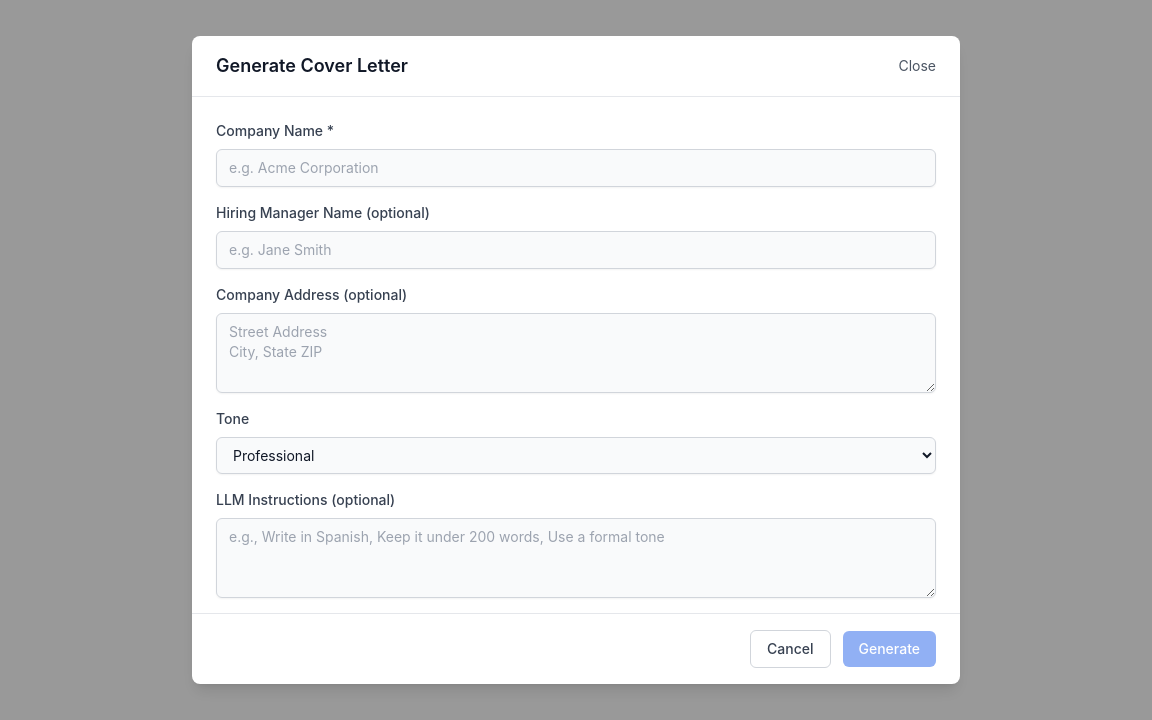
it: CoverLetterModal › enables generate button when form is valid
Type "Tech Corp" into the field labelled "Company Name *".
click(576, 168); type("Tech Corp")  # box [216,149,936,187]
(page scrolled)
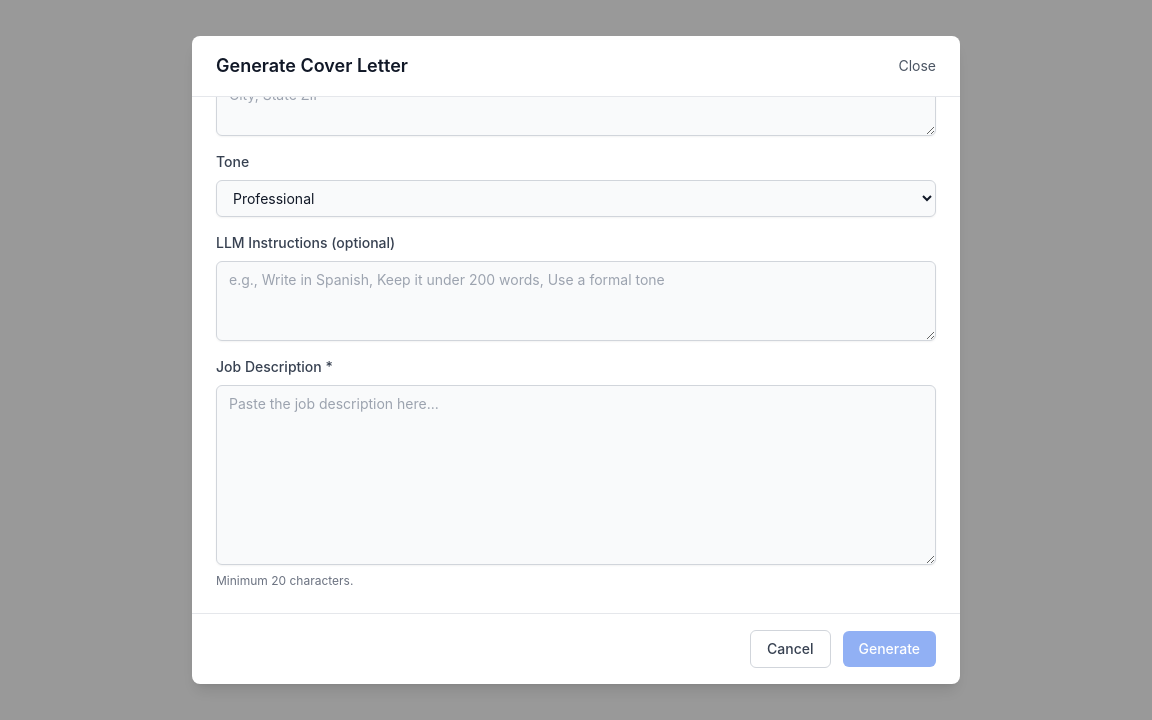
Type "We are looking for a Senior Developer with Python experience." into the text box labelled "Job Description *".
click(576, 475); type("We are looking for a Senior Developer with Python experience.")  # box [216,385,936,565]
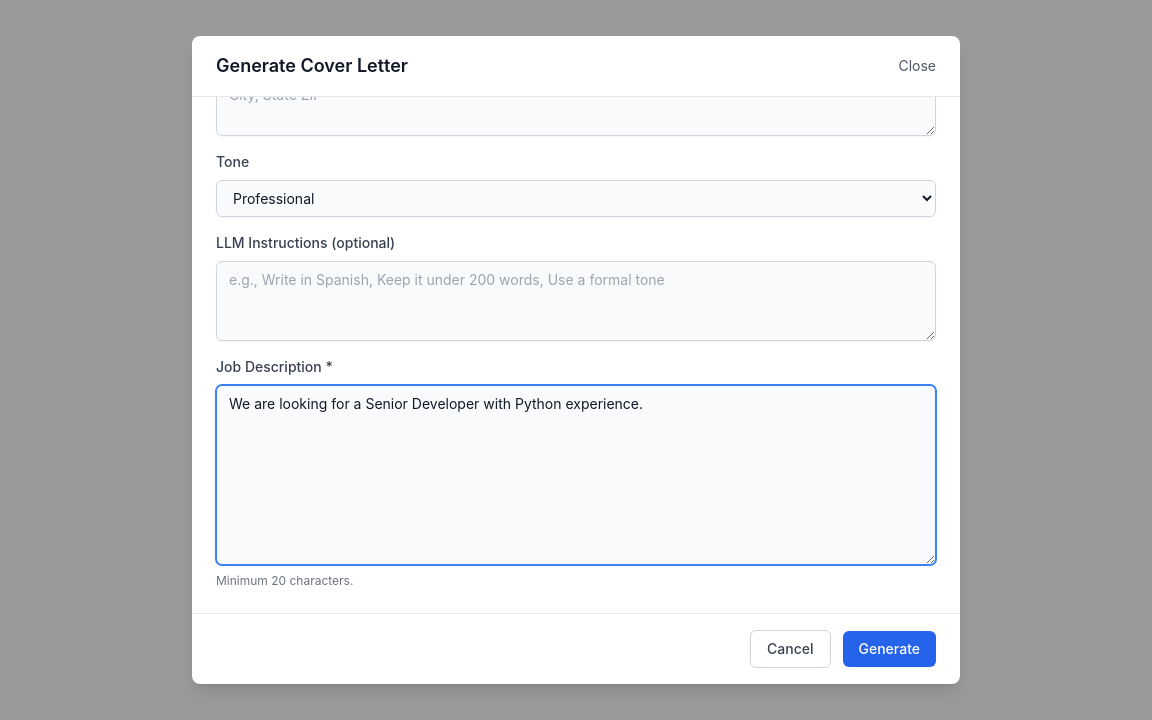
Check: the button "Generate" is enabled, box [842,631,936,667]
